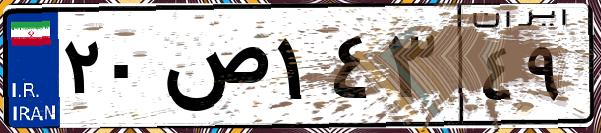0: (110, 28, 158, 98)
1: (270, 28, 330, 110)
2: (57, 26, 110, 100)
3: (385, 28, 445, 110)
4: (330, 28, 385, 110), (475, 38, 525, 113)
9: (525, 38, 570, 115)
ص: (158, 20, 270, 120)
